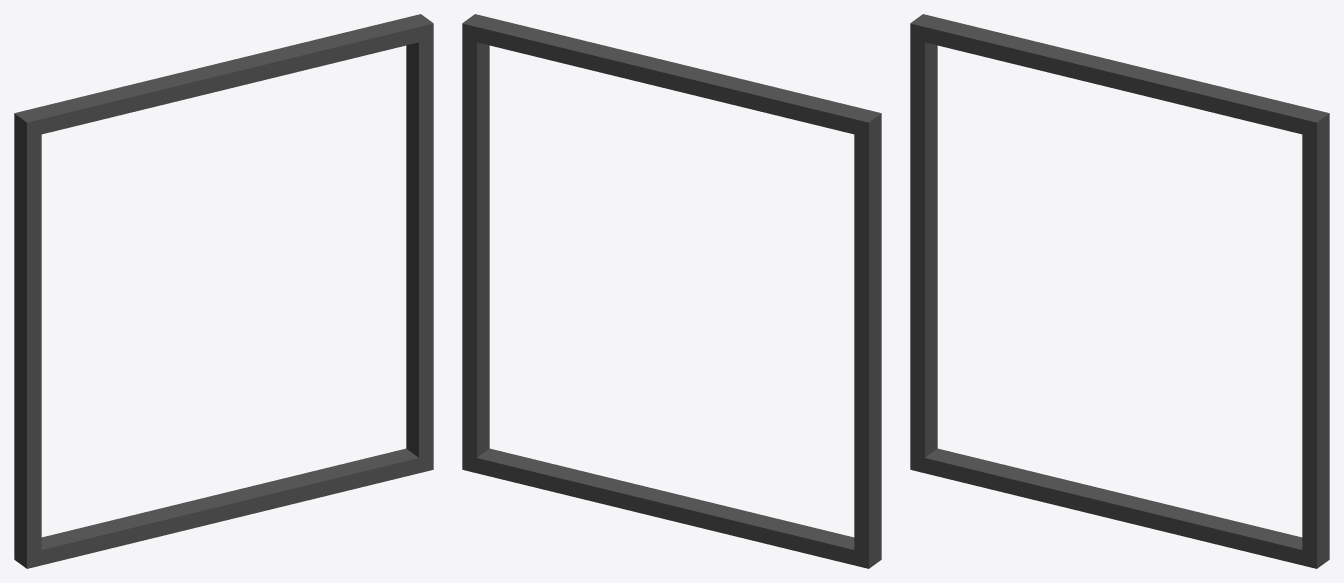
File: M_SlidingDoor_0.fbx
3 views of the same model, side by side, from view 1: azimuth 30°, elevation 25°; view 2: azimuth 150°, elevation 25°; view 3: azimuth 330°, elevation 25° (orthographic).
Parts seen in each view (by area): view 1: M_SlidingDoor_0; view 2: M_SlidingDoor_0; view 3: M_SlidingDoor_0.
Boxes of the visible parts, x1=… form: M_SlidingDoor_0: x1=14, y1=14, x2=433, y2=568; M_SlidingDoor_0: x1=462, y1=14, x2=881, y2=568; M_SlidingDoor_0: x1=910, y1=14, x2=1329, y2=568.
Size of the model in its own units: 1140 by 1195 by 62.61.
